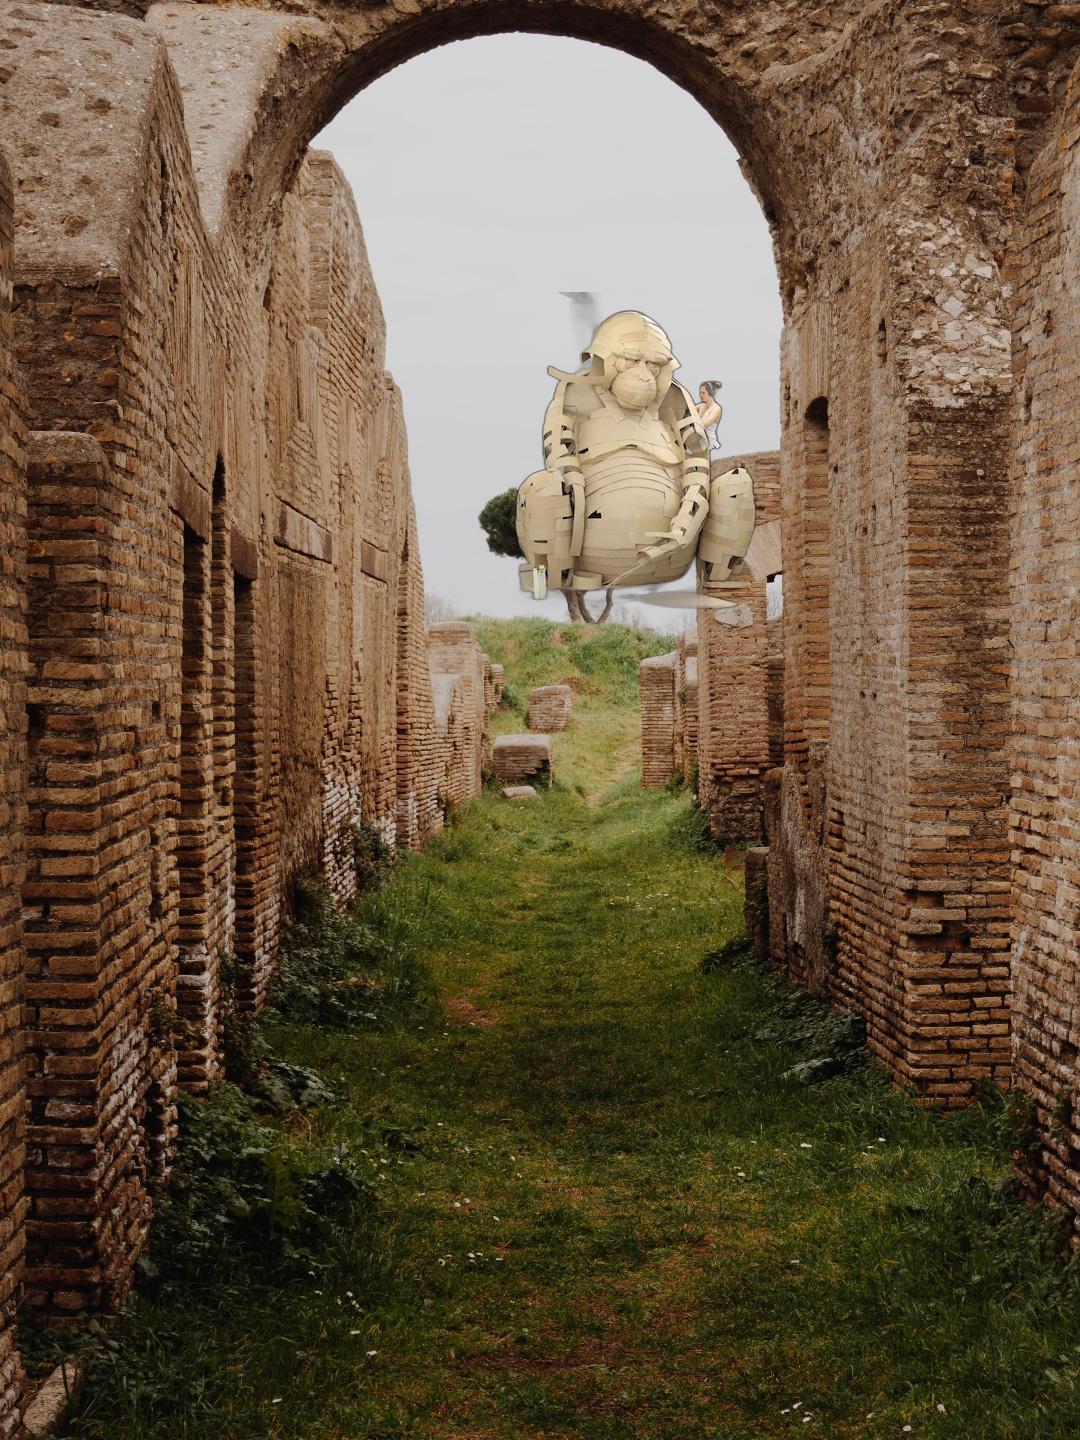trashbox-cardboard: (432, 293, 816, 615)
